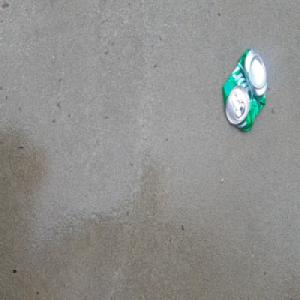SodaCan: (220, 48, 268, 136)
